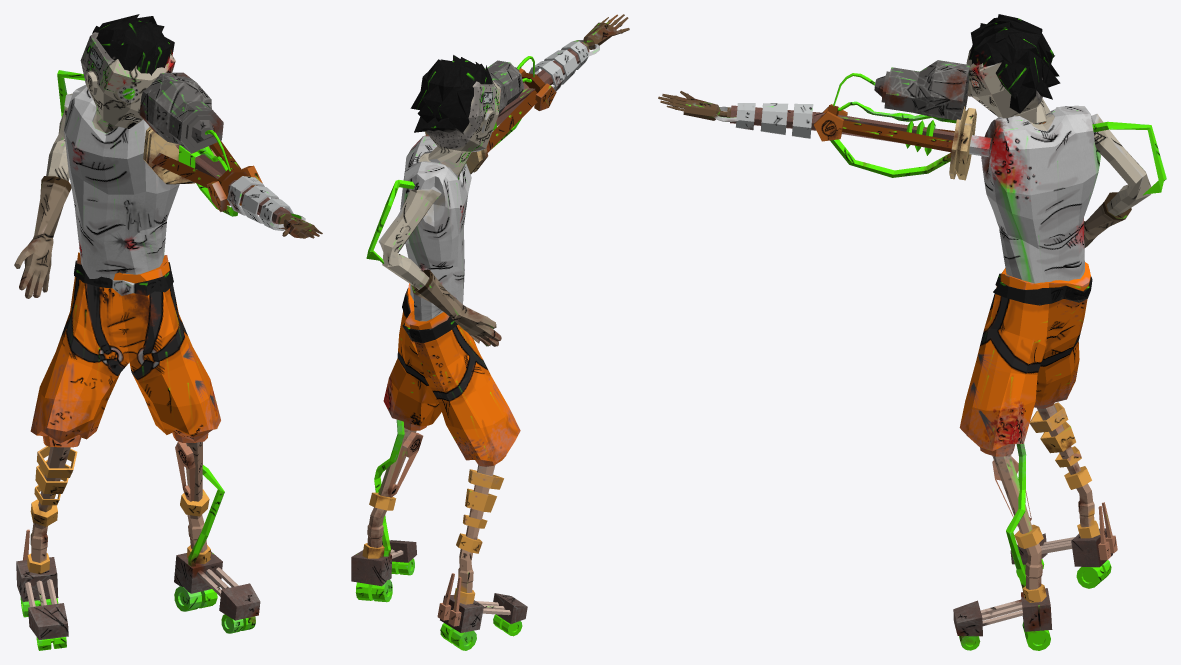
File: CyborgFINALAnimation_000072.obj
The picture shows the model from 3 angles, left to right: view 1: azimuth 30°, elevation 25°; view 2: azimuth 150°, elevation 25°; view 3: azimuth 270°, elevation 25°; orthographic projection. The views are drawn at different scales.
Parts seen in each view (by area): view 1: CyborgMesh_Cube.002; view 2: CyborgMesh_Cube.002; view 3: CyborgMesh_Cube.002.
Boxes of the visible parts, <box> form: CyborgMesh_Cube.002: <box>14,14,322,650</box>; CyborgMesh_Cube.002: <box>351,14,629,650</box>; CyborgMesh_Cube.002: <box>658,14,1166,650</box>.
Bounding box in the file's own units: 3.05 × 9.51 × 7.45.
